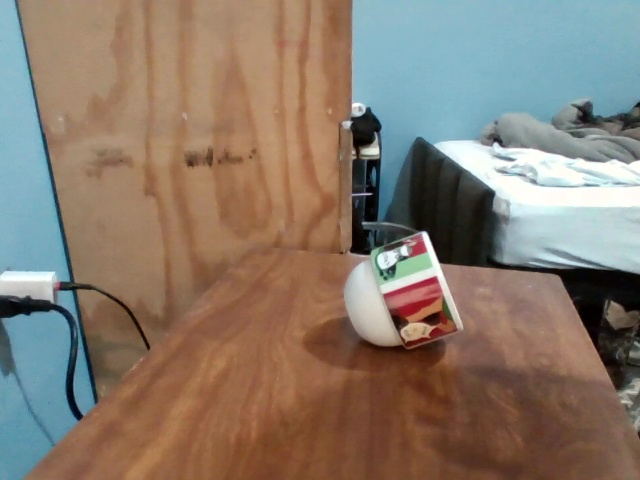taza: (340, 226, 464, 355)
